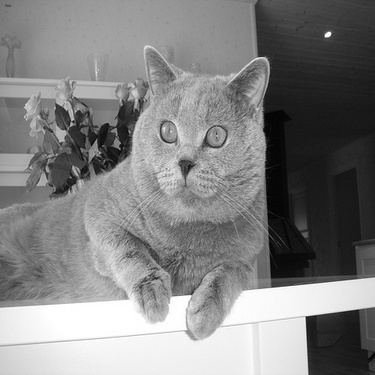cat: (1, 42, 311, 343)
